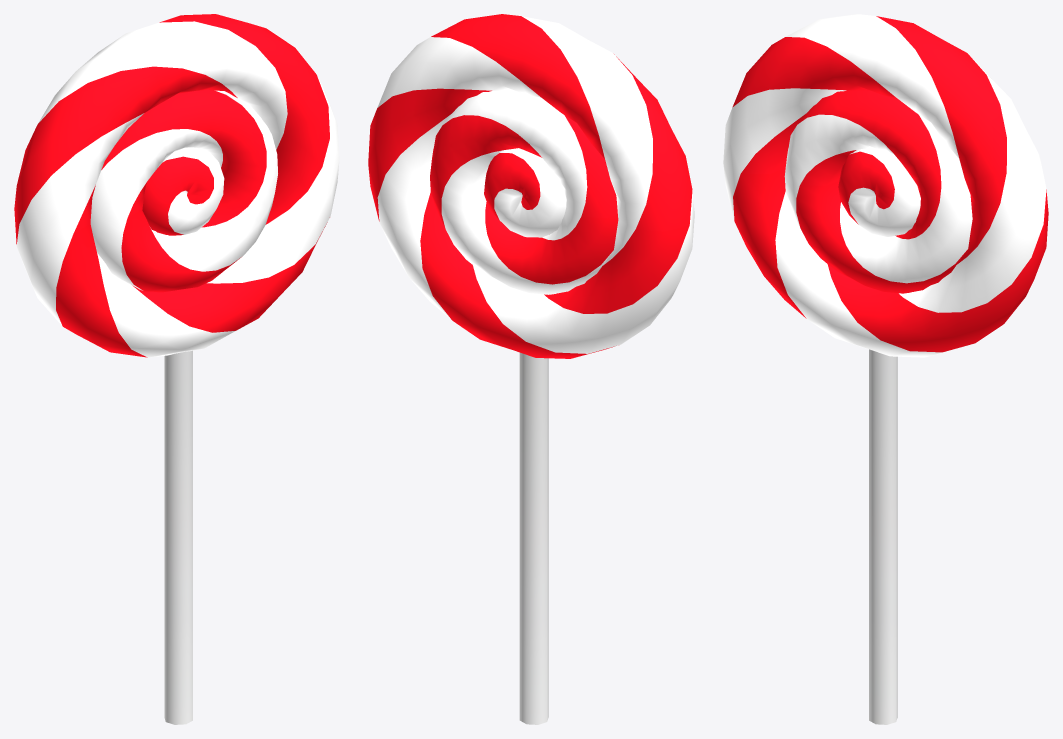
File: Lollipop_03.glb
The picture shows the model from 3 angles, left to right: view 1: azimuth 30°, elevation 25°; view 2: azimuth 150°, elevation 25°; view 3: azimuth 330°, elevation 25°; orthographic projection.
Parts seen in each view (by area): view 1: Lollipop_03; view 2: Lollipop_03; view 3: Lollipop_03.
Boxes of the visible parts, <box> form: Lollipop_03: <box>14,14,339,724</box>; Lollipop_03: <box>368,14,694,724</box>; Lollipop_03: <box>723,14,1048,724</box>.
Size of the model in its own units: 6.42 by 13.54 by 1.47.
1 material, 1 textured.
